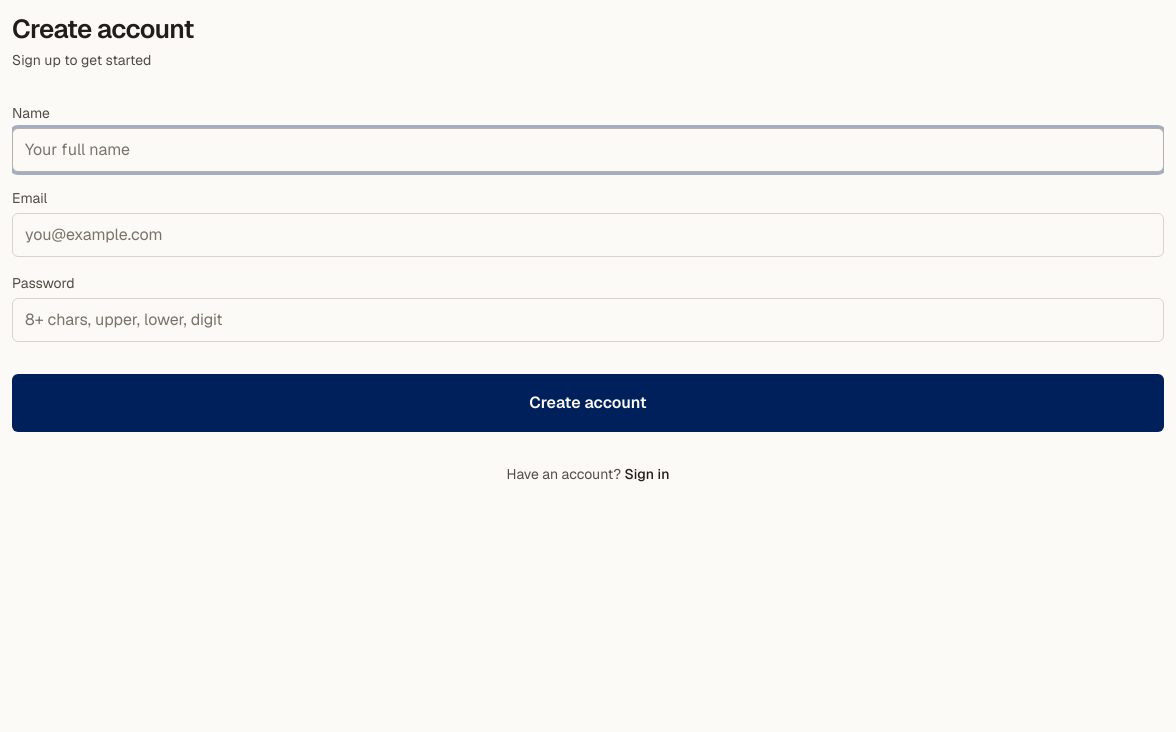
Test case: RegisterPage › uses mapAuthError for firebase code errors
Type "A" into the field labelled "Name" at (588, 150), box 12,128 -> 1164,172
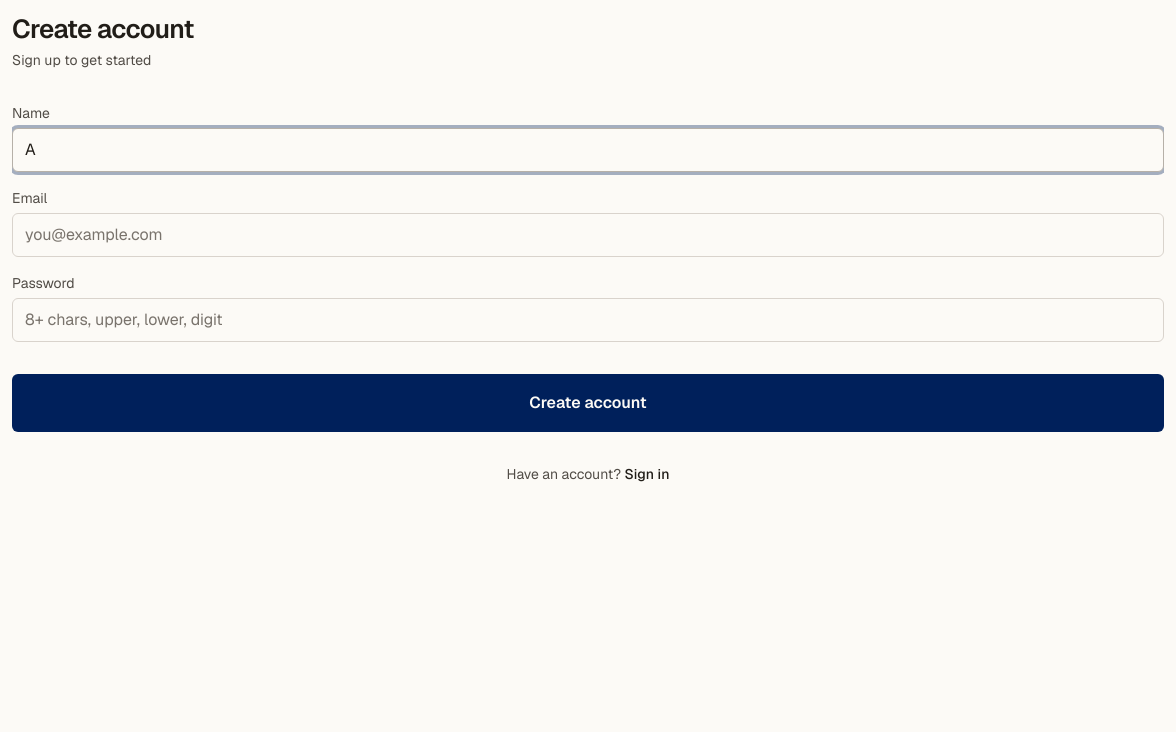
Type "e" into the field labelled "Email" at (588, 235), box 12,213 -> 1164,257
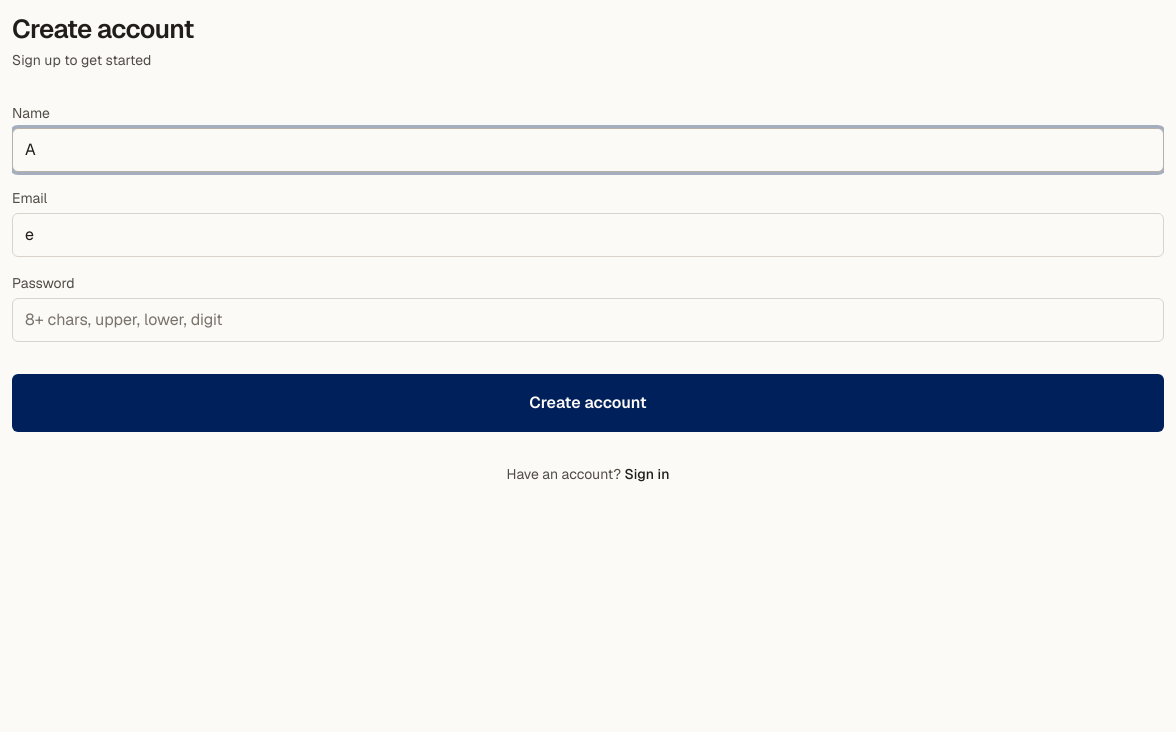
Type "p" into the password field labelled "Password" at (588, 320), box 12,298 -> 1164,342
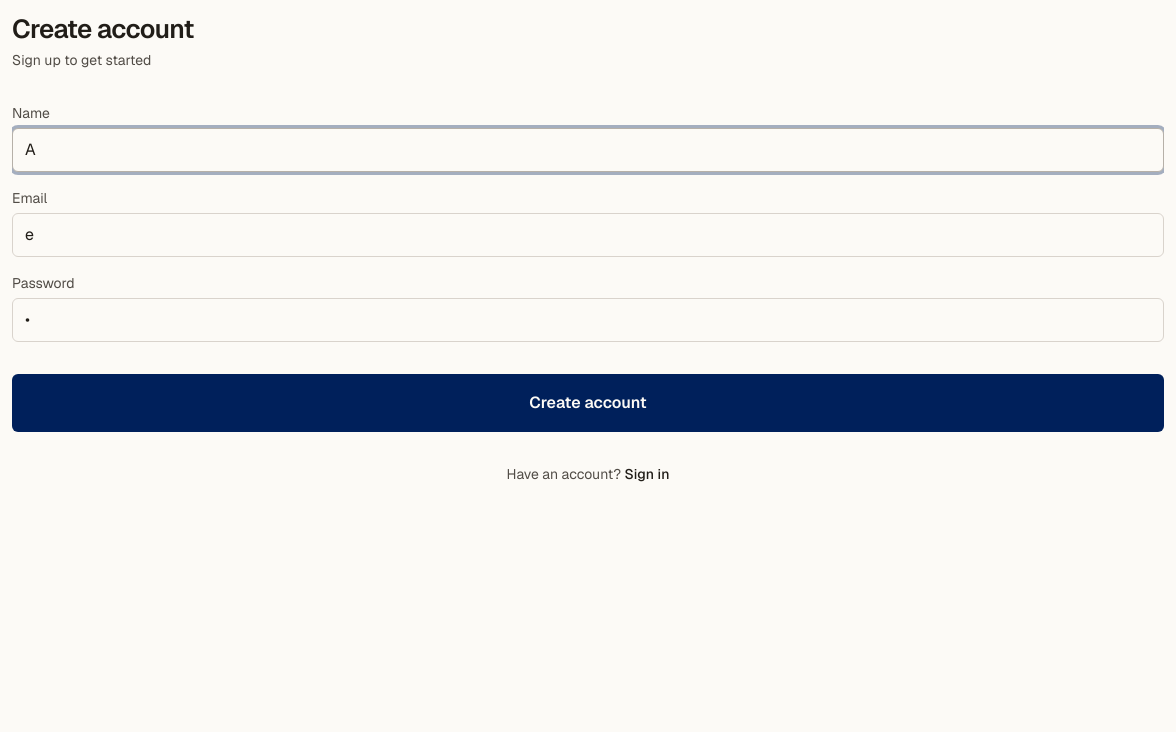
Submit the form "Create account"
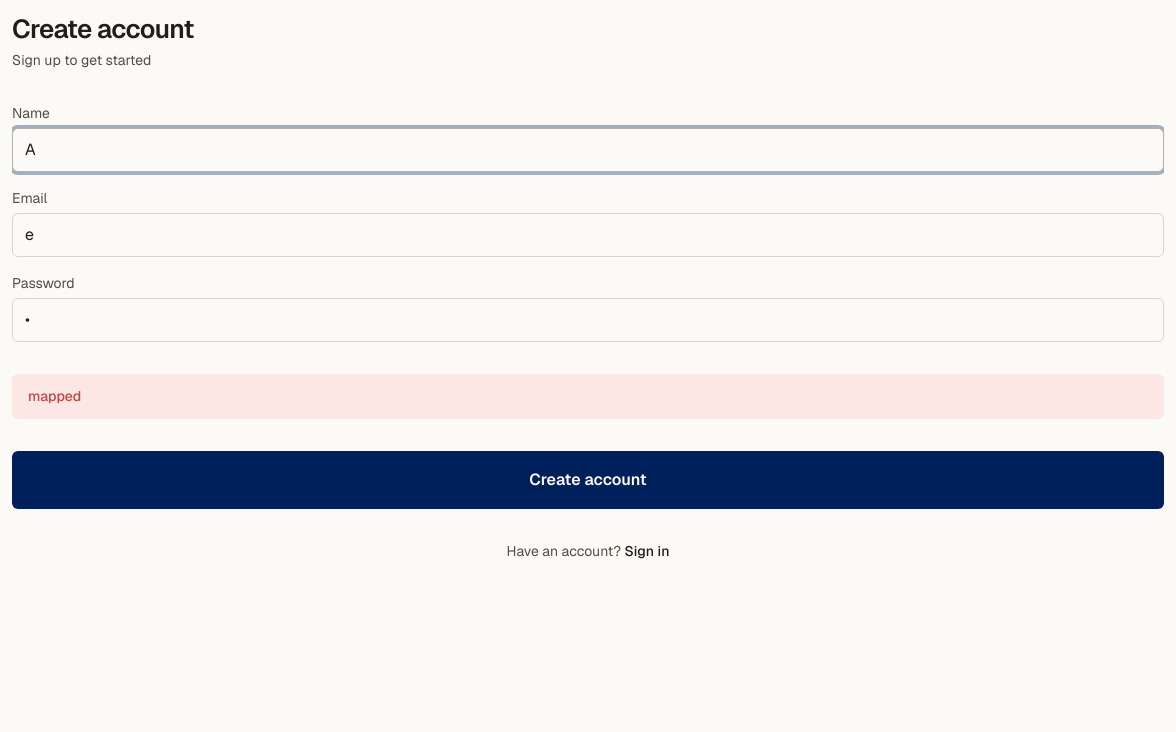
Expected: the message reads "mapped", 28,387 -> 81,405
